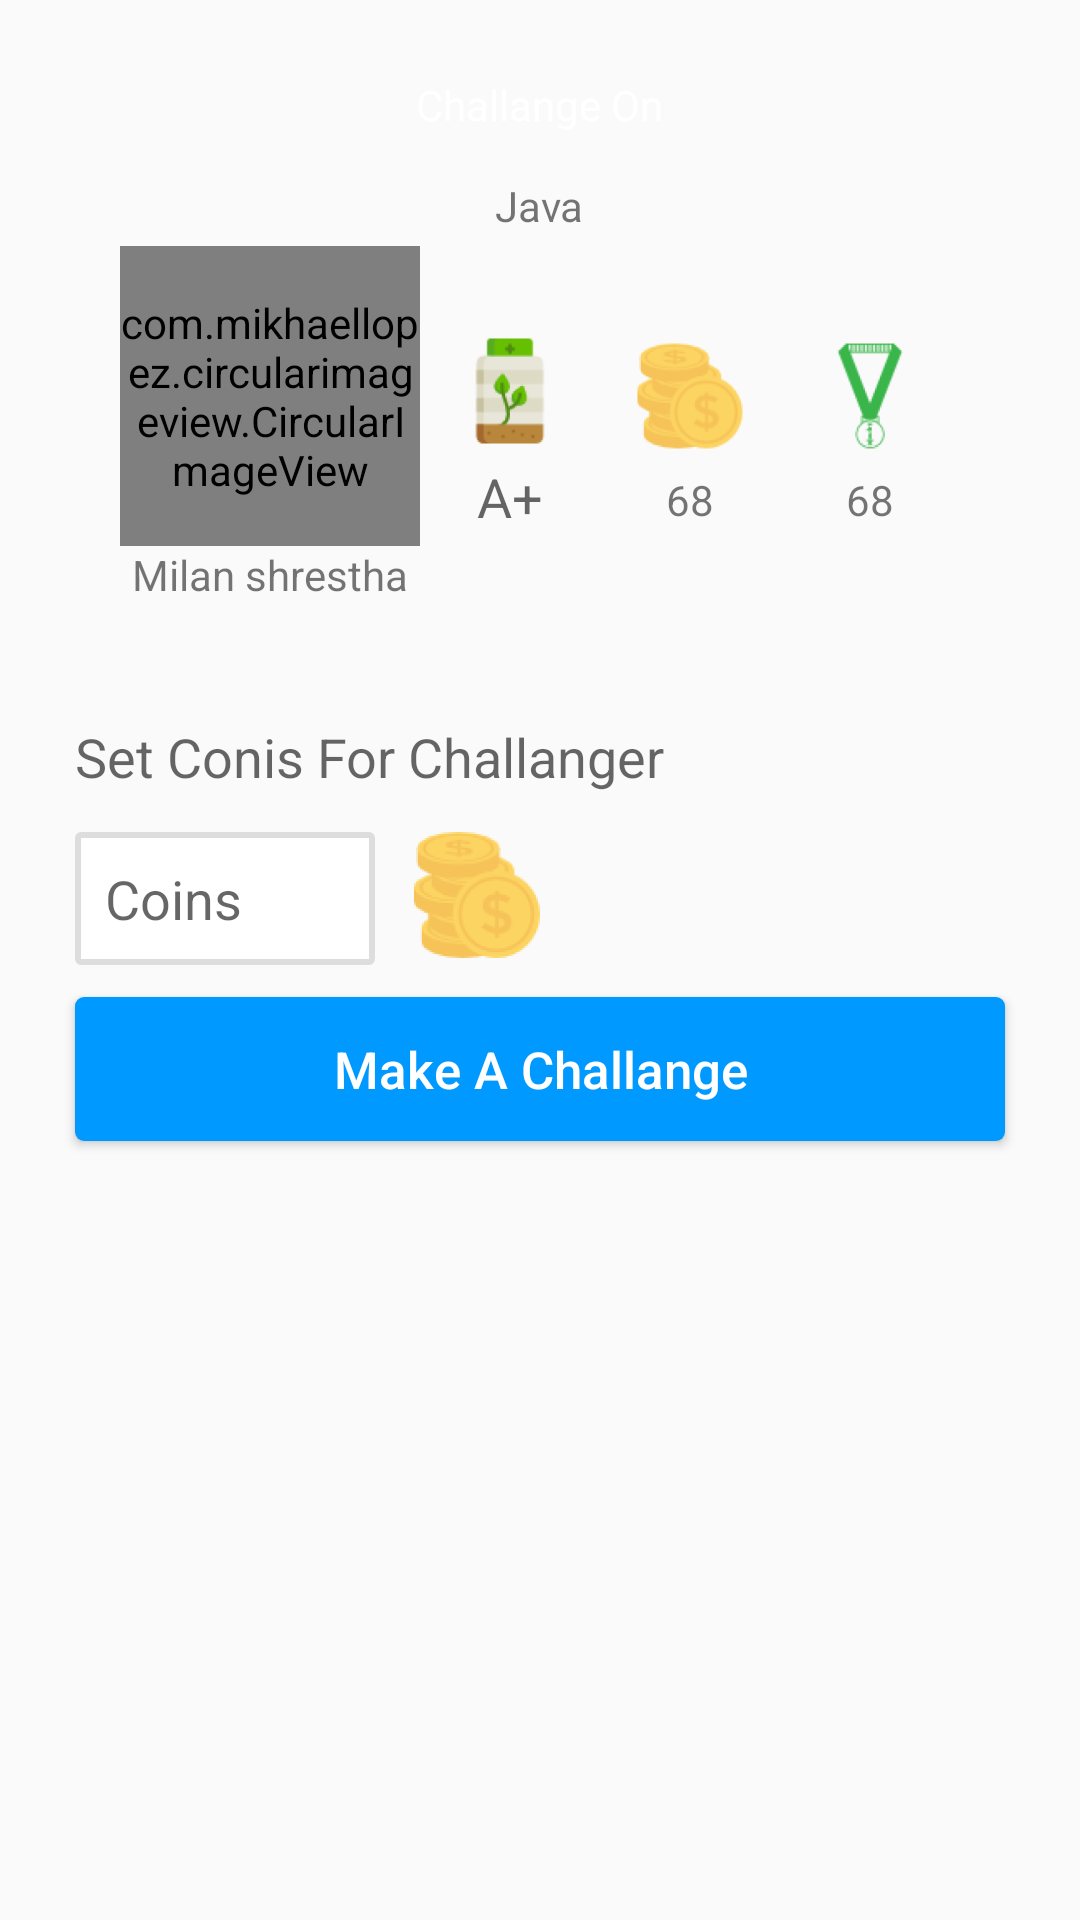

Icon click points for this 1080×1920 phone screenshot, format point (x, y):
coines: point (690, 396), point (477, 895)
